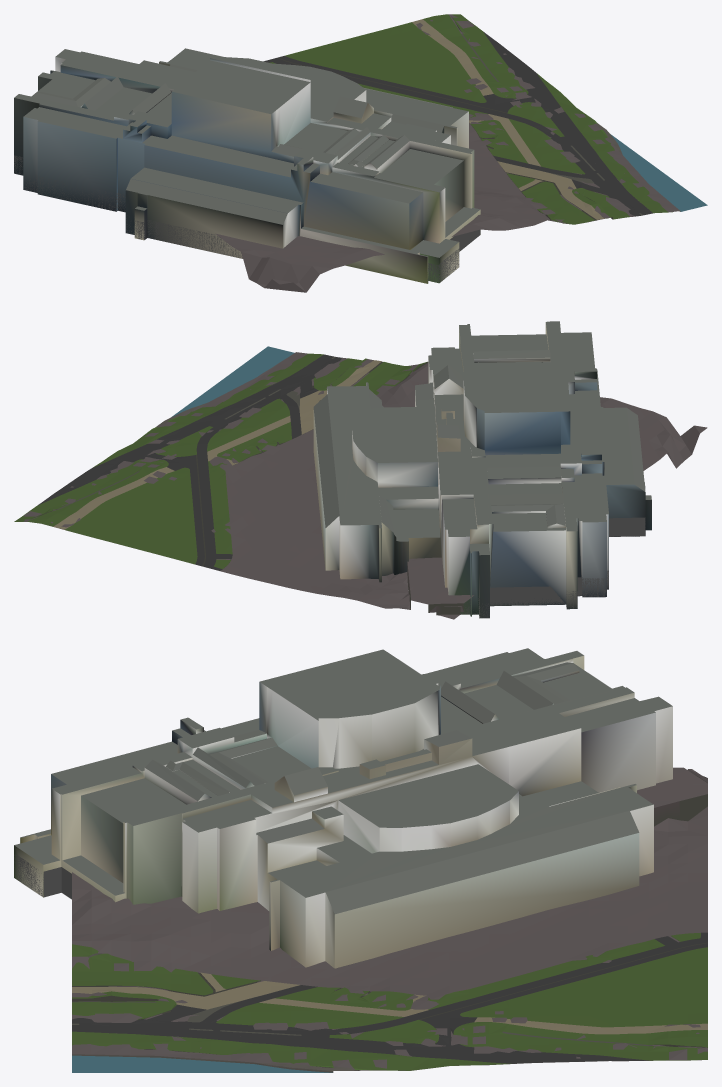
The picture shows the model from 3 angles, top to bottom: view 1: azimuth 30°, elevation 25°; view 2: azimuth 150°, elevation 25°; view 3: azimuth 270°, elevation 25°; orthographic projection. The views are drawn at different scales.
Parts seen in each view (by area): view 1: c_m10_m11; view 2: c_m10_m11; view 3: c_m10_m11.
Part boxes in pixels (x1,y1,x2,y2): c_m10_m11: [14, 14, 707, 292]; c_m10_m11: [14, 321, 707, 619]; c_m10_m11: [14, 648, 707, 1072].
Size of the model in its own units: 152 by 36.74 by 140.
